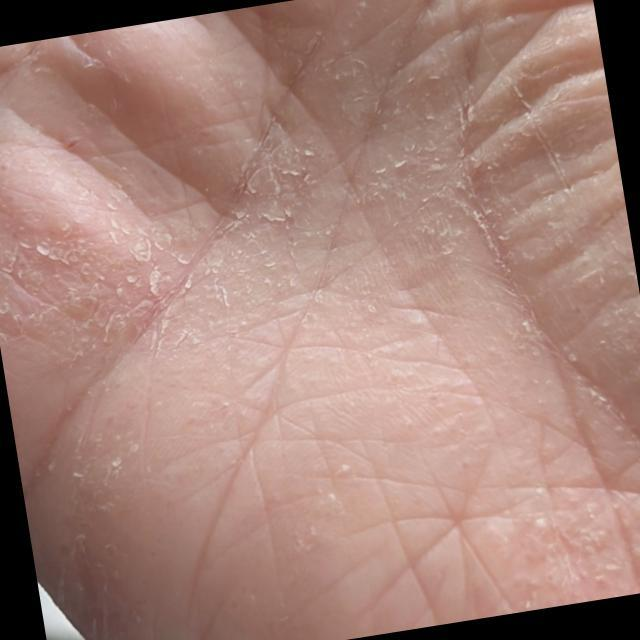Eczema: (0, 15, 640, 572)
